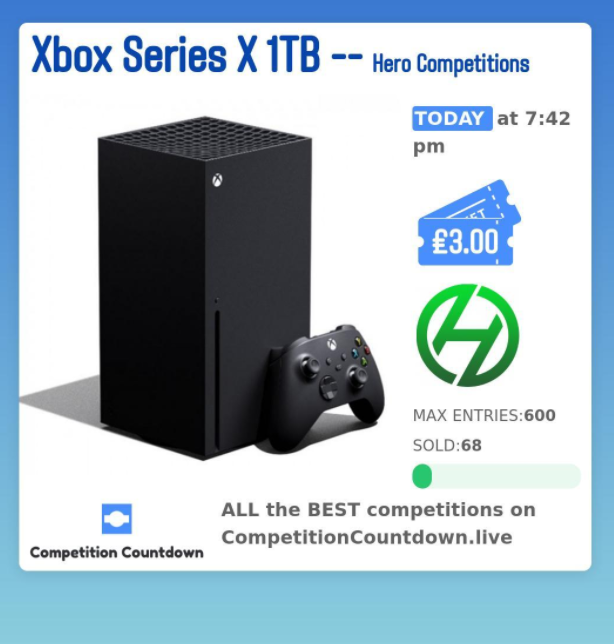gamingconsole: (261, 325, 386, 446)
